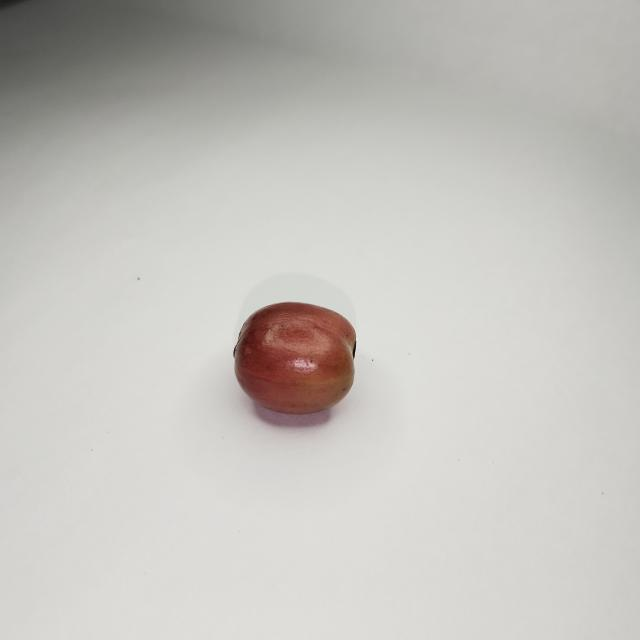Sano: (233, 300, 355, 423)
